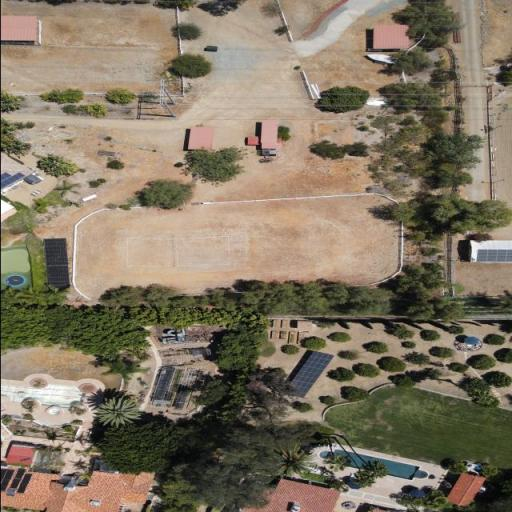solar-panel: (281, 351, 334, 398), (42, 238, 69, 289), (475, 249, 512, 262), (0, 172, 25, 189), (0, 468, 14, 491), (16, 473, 32, 493), (14, 468, 26, 479), (9, 478, 21, 489), (19, 458, 30, 462)
